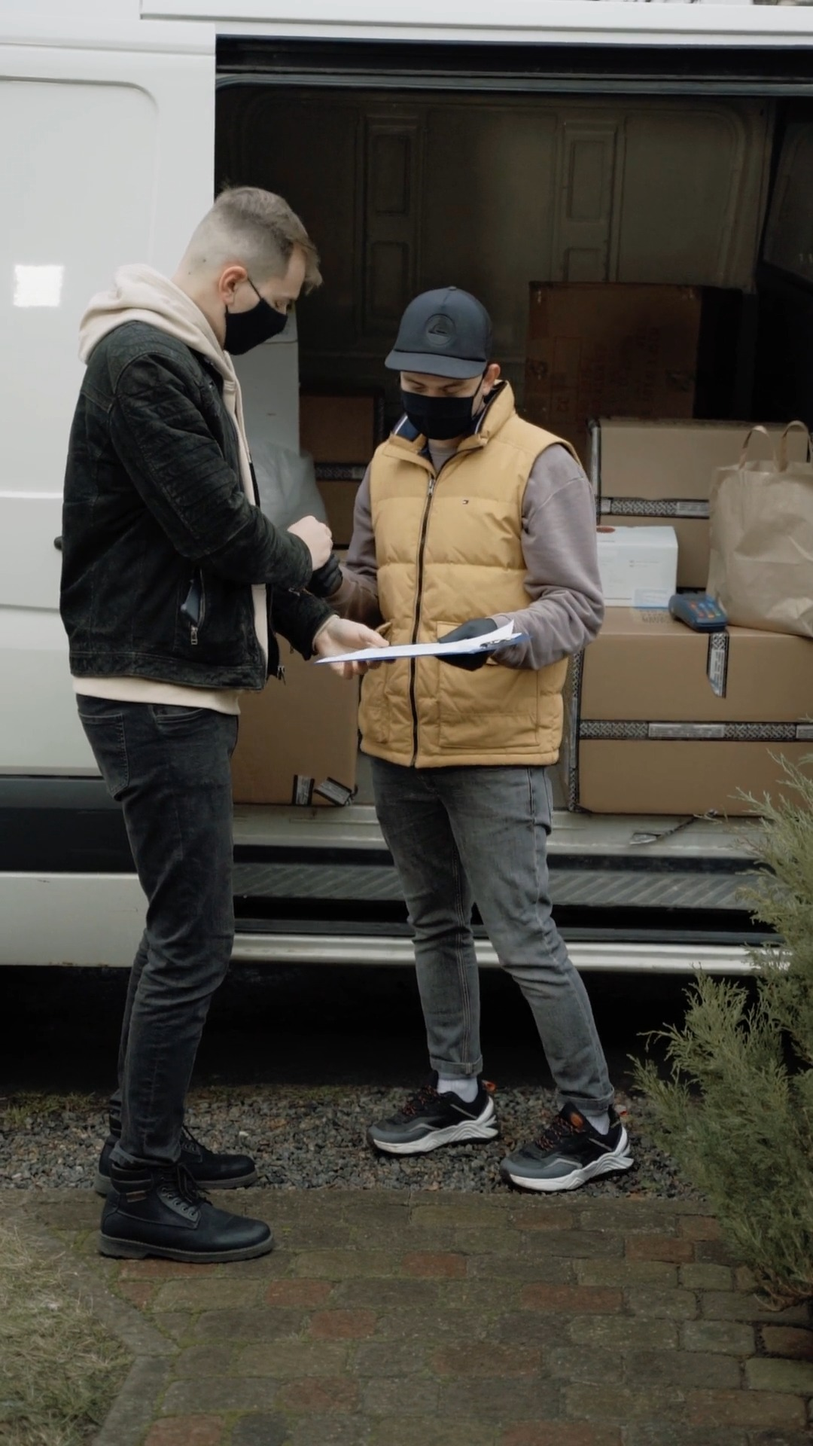No-gloves: (307, 609, 396, 685), (289, 510, 343, 566)
gloves: (439, 610, 525, 674), (310, 558, 366, 600)
